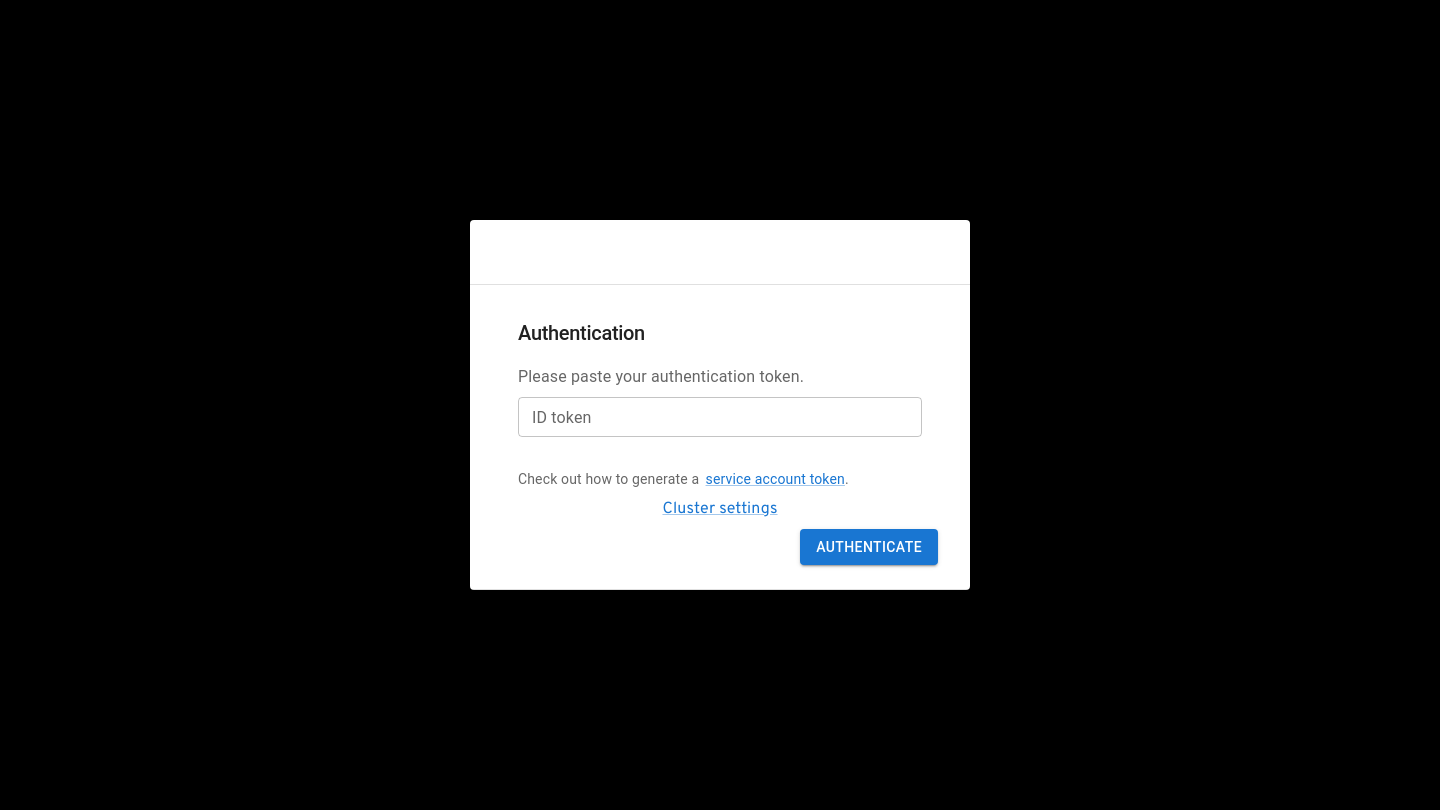
Test: AuthToken (stateful) › shows error snackbar after authentication failure
Type "bad-token" into the password field labelled "ID token" at (720, 417), box [518,397,922,437]
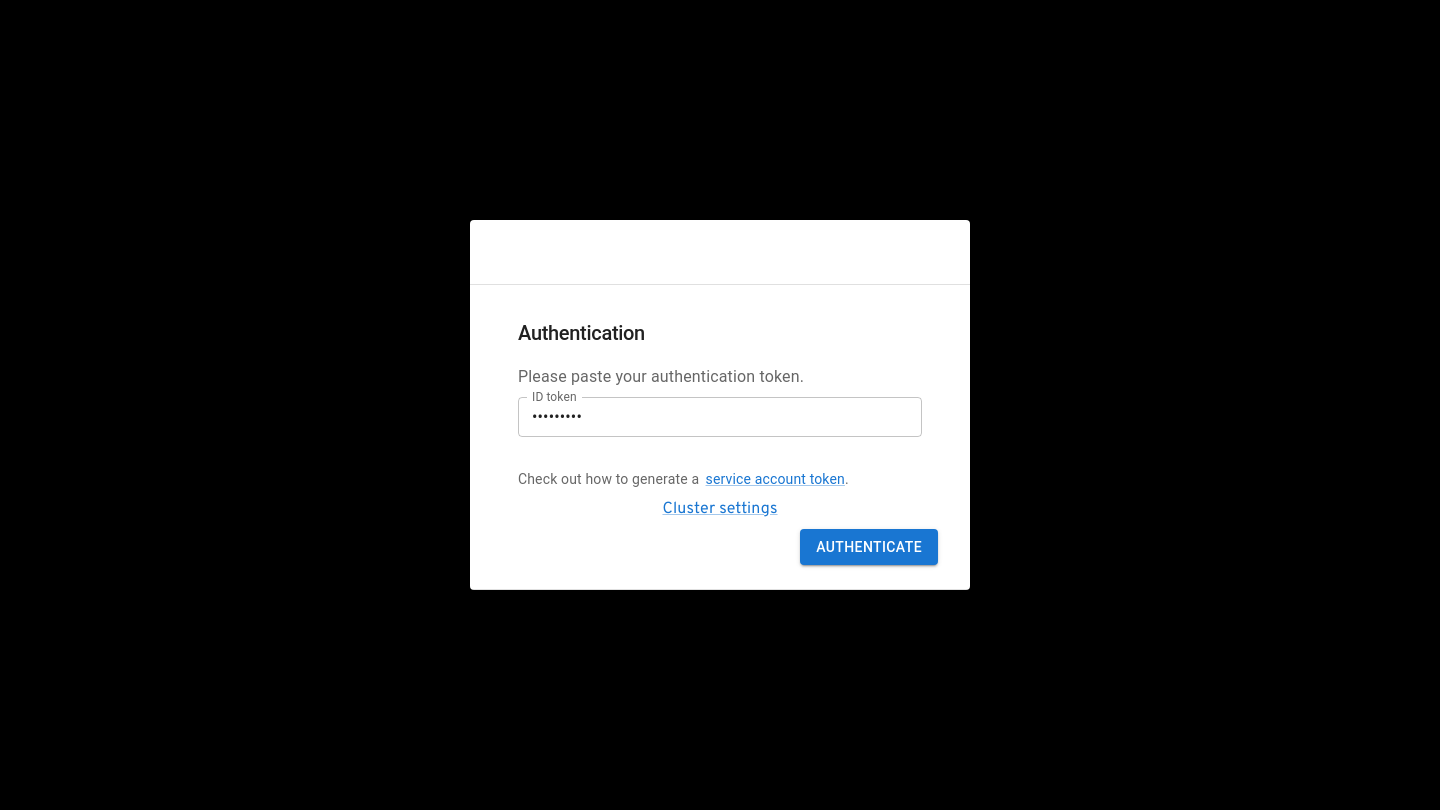
Click the button "Authenticate" at (869, 547), box [800,529,938,565]
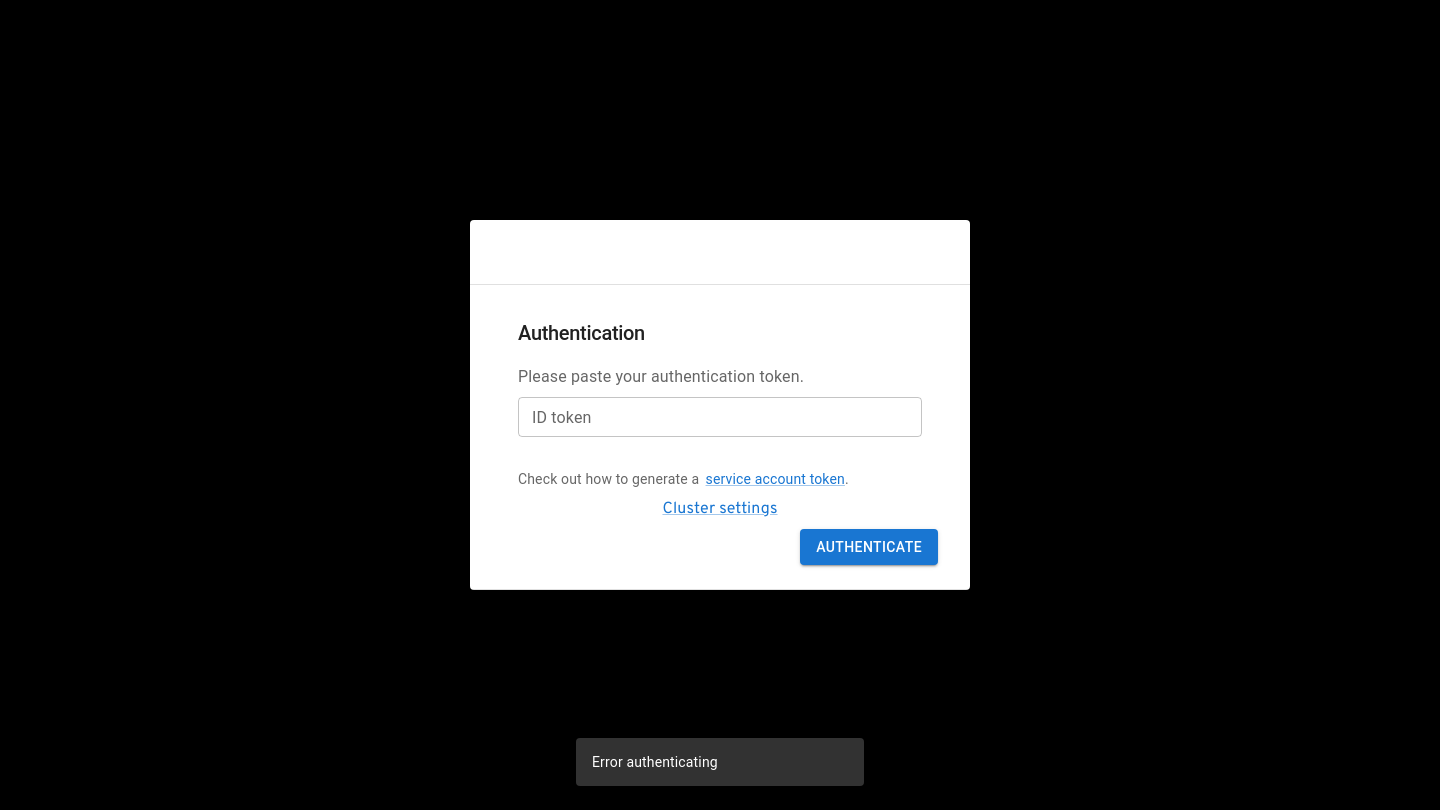
Check: the text "Error authenticating" is shown, box [592,754,718,770]
